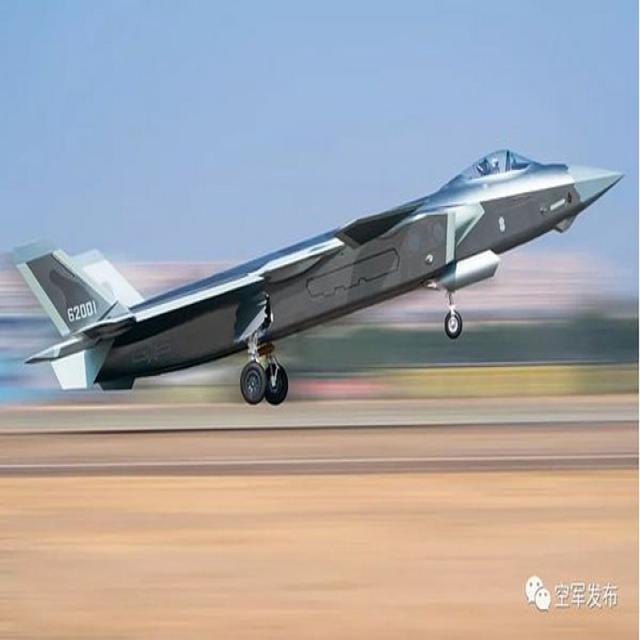MIL_Plane: (13, 148, 626, 407)
